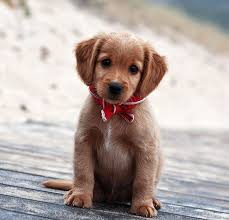dog_sitting: (62, 29, 171, 219)
